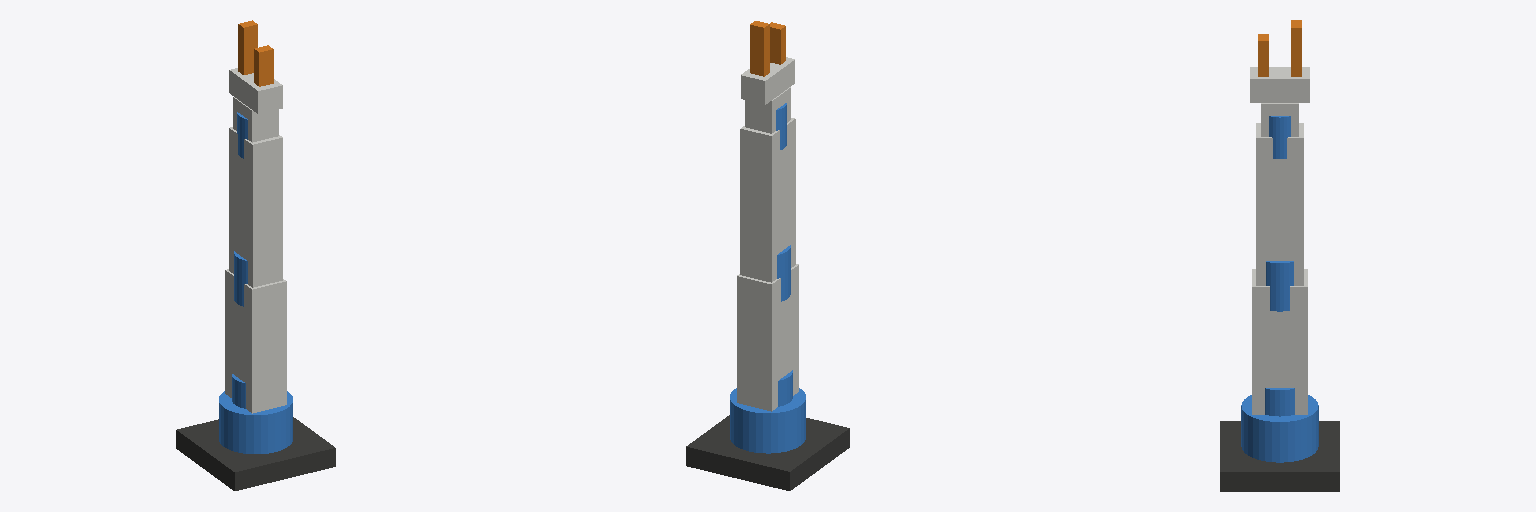
robot.urdf — so_arm_101:
<?xml version="1.0"?>
<!--
  SO-ARM101, described with primitive geometry.

  This is a visualization model, not a simulation model: it carries no inertia
  and no collision volumes, and its shells are boxes and cylinders rather than
  the printed meshes. What it does carry exactly is the kinematic chain — every
  joint name here is the motor name the rest of the studio uses, so measured
  joint angles drive this model without a translation table.

  Conventions follow the URDF standard: metres, radians, Z up, X forward. Each
  link extends along its own +Z, the flex joints turn about their own +Y, and
  the wrist rolls about the tool axis, which is +Z once the flexes are applied.

  Zero here is the mechanical zero — every joint centered, arm straight up. The
  pose that corresponds to a *calibrated* center is a separate question, and it
  is answered in code by `arm::SO101_REST_POSE`, not by these origins.
-->
<robot name="so_arm_101">

  <!--
    Neutral by default. The printed shells of a real SO-101 are pale grey and
    its brackets are dark, and keeping the model that way leaves colour free to
    mean something: the accent identifies which arm this is, and the jaw colour
    marks the one part that opens.
  -->
  <material name="shell">
    <color rgba="0.85 0.85 0.83 1.0"/>
  </material>
  <material name="frame">
    <color rgba="0.29 0.29 0.28 1.0"/>
  </material>
  <!-- Substituted per robot instance, so two arms in one scene stay apart. -->
  <material name="accent">
    <color rgba="0.29 0.56 0.85 1.0"/>
  </material>
  <material name="jaw">
    <color rgba="0.88 0.53 0.18 1.0"/>
  </material>

  <!-- Table plate the arm is bolted to. -->
  <link name="base_link">
    <visual>
      <origin xyz="0 0 0.009" rpy="0 0 0"/>
      <geometry>
        <box size="0.100 0.100 0.018"/>
      </geometry>
      <material name="frame"/>
    </visual>
  </link>

  <joint name="shoulder_pan" type="revolute">
    <parent link="base_link"/>
    <child link="shoulder_link"/>
    <origin xyz="0 0 0.018" rpy="0 0 0"/>
    <axis xyz="0 0 1"/>
    <limit lower="-1.92" upper="1.92" effort="10" velocity="3"/>
  </joint>

  <!-- Rotating turret carrying the shoulder-lift motor. -->
  <link name="shoulder_link">
    <visual>
      <origin xyz="0 0 0.0185" rpy="0 0 0"/>
      <geometry>
        <cylinder radius="0.032" length="0.037"/>
      </geometry>
      <material name="accent"/>
    </visual>
  </link>

  <joint name="shoulder_lift" type="revolute">
    <parent link="shoulder_link"/>
    <child link="upper_arm_link"/>
    <origin xyz="0 0 0.037" rpy="0 0 0"/>
    <axis xyz="0 1 0"/>
    <limit lower="-1.75" upper="1.75" effort="10" velocity="3"/>
  </joint>

  <!-- Shoulder pivot to elbow pivot: 117 mm. -->
  <link name="upper_arm_link">
    <visual>
      <origin xyz="0 0 0" rpy="0 0 0"/>
      <geometry>
        <cylinder radius="0.021" length="0.048"/>
      </geometry>
      <material name="accent"/>
    </visual>
    <visual>
      <origin xyz="0 0 0.0585" rpy="0 0 0"/>
      <geometry>
        <box size="0.034 0.046 0.117"/>
      </geometry>
      <material name="shell"/>
    </visual>
  </link>

  <joint name="elbow_flex" type="revolute">
    <parent link="upper_arm_link"/>
    <child link="forearm_link"/>
    <origin xyz="0 0 0.117" rpy="0 0 0"/>
    <axis xyz="0 1 0"/>
    <limit lower="-2.7" upper="2.7" effort="10" velocity="3"/>
  </joint>

  <!-- Elbow pivot to wrist pivot: 135 mm. -->
  <link name="forearm_link">
    <visual>
      <origin xyz="0 0 0" rpy="0 0 0"/>
      <geometry>
        <cylinder radius="0.019" length="0.044"/>
      </geometry>
      <material name="accent"/>
    </visual>
    <visual>
      <origin xyz="0 0 0.0675" rpy="0 0 0"/>
      <geometry>
        <box size="0.030 0.040 0.135"/>
      </geometry>
      <material name="shell"/>
    </visual>
  </link>

  <joint name="wrist_flex" type="revolute">
    <parent link="forearm_link"/>
    <child link="wrist_link"/>
    <origin xyz="0 0 0.135" rpy="0 0 0"/>
    <axis xyz="0 1 0"/>
    <limit lower="-2.0" upper="2.0" effort="10" velocity="3"/>
  </joint>

  <!-- Wrist pivot to the roll axis: 30 mm of the 75 mm to the tip. -->
  <link name="wrist_link">
    <visual>
      <origin xyz="0 0 0" rpy="0 0 0"/>
      <geometry>
        <cylinder radius="0.016" length="0.038"/>
      </geometry>
      <material name="accent"/>
    </visual>
    <visual>
      <origin xyz="0 0 0.015" rpy="0 0 0"/>
      <geometry>
        <box size="0.026 0.032 0.030"/>
      </geometry>
      <material name="shell"/>
    </visual>
  </link>

  <joint name="wrist_roll" type="revolute">
    <parent link="wrist_link"/>
    <child link="gripper_link"/>
    <origin xyz="0 0 0.030" rpy="0 0 0"/>
    <axis xyz="0 0 1"/>
    <limit lower="-2.8" upper="2.8" effort="10" velocity="3"/>
  </joint>

  <!--
    Gripper body plus the fixed jaw. The body is 45 mm long, putting the tip
    75 mm from the wrist pivot, and the fixed jaw sits on the -Y side so the
    moving jaw can close against it.
  -->
  <link name="gripper_link">
    <visual>
      <origin xyz="0 0 0.011" rpy="0 0 0"/>
      <geometry>
        <box size="0.024 0.050 0.022"/>
      </geometry>
      <material name="shell"/>
    </visual>
    <visual>
      <origin xyz="0 -0.0135 0.032" rpy="0 0 0"/>
      <geometry>
        <box size="0.014 0.009 0.045"/>
      </geometry>
      <material name="jaw"/>
    </visual>
  </link>

  <!--
    The moving jaw. Its pivot sits on the +Y side and closing swings it toward
    the fixed jaw, so the 45 mm span of a fully open SO-101 falls out of the
    jaw length rather than being drawn in by hand.
  -->
  <joint name="gripper" type="revolute">
    <parent link="gripper_link"/>
    <child link="gripper_jaw_link"/>
    <origin xyz="0 0.0135 0.022" rpy="0 0 0"/>
    <axis xyz="1 0 0"/>
    <limit lower="0.0" upper="0.52" effort="5" velocity="3"/>
  </joint>

  <link name="gripper_jaw_link">
    <visual>
      <origin xyz="0 0 0.0225" rpy="0 0 0"/>
      <geometry>
        <box size="0.014 0.009 0.045"/>
      </geometry>
      <material name="jaw"/>
    </visual>
  </link>

  <!--
    The point the arm is aimed at, 75 mm past the wrist pivot. It carries no
    shape: it exists so that "where is the tool" is answered by posing the
    description rather than by a length written down a second time in code.
  -->
  <joint name="tool_frame" type="fixed">
    <parent link="gripper_link"/>
    <child link="tool_link"/>
    <origin xyz="0 0 0.045" rpy="0 0 0"/>
  </joint>

  <link name="tool_link"/>

</robot>

--- Render facts (derived) ---
3 views of the same robot in one strip: view 1: azimuth 30°, elevation 25°; view 2: azimuth 150°, elevation 25°; view 3: azimuth 270°, elevation 25° (orthographic).
Model so_arm_101 with 8 links and 7 joints (6 revolute, 1 fixed), rooted at base_link, posed every joint at zero.
Links seen in each view (by area): view 1: forearm_link, upper_arm_link, base_link, shoulder_link, gripper_link, wrist_link, gripper_jaw_link; view 2: forearm_link, upper_arm_link, base_link, shoulder_link, gripper_link, wrist_link, gripper_jaw_link; view 3: forearm_link, upper_arm_link, base_link, shoulder_link, gripper_link, wrist_link, gripper_jaw_link.
Link boxes in pixels (x1=…): forearm_link: x1=229, y1=127, x2=282, y2=306; upper_arm_link: x1=225, y1=269, x2=286, y2=413; base_link: x1=176, y1=417, x2=335, y2=490; shoulder_link: x1=219, y1=391, x2=292, y2=453; gripper_link: x1=229, y1=45, x2=282, y2=114; wrist_link: x1=233, y1=97, x2=278, y2=158; gripper_jaw_link: x1=238, y1=20, x2=257, y2=74; forearm_link: x1=740, y1=118, x2=795, y2=301; upper_arm_link: x1=737, y1=264, x2=798, y2=411; base_link: x1=686, y1=415, x2=849, y2=490; shoulder_link: x1=730, y1=388, x2=805, y2=453; gripper_link: x1=741, y1=22, x2=794, y2=104; wrist_link: x1=745, y1=87, x2=790, y2=149; gripper_jaw_link: x1=750, y1=21, x2=769, y2=76; forearm_link: x1=1256, y1=123, x2=1303, y2=311; upper_arm_link: x1=1252, y1=269, x2=1307, y2=416; base_link: x1=1220, y1=421, x2=1339, y2=491; shoulder_link: x1=1241, y1=395, x2=1318, y2=462; gripper_link: x1=1250, y1=34, x2=1309, y2=102; wrist_link: x1=1261, y1=103, x2=1298, y2=158; gripper_jaw_link: x1=1291, y1=20, x2=1301, y2=76.
Bounding box of the posed robot: 0.1 × 0.1 × 0.404 m (x, y, z).
Geometry: primitives only (box / cylinder / sphere), no mesh files.
